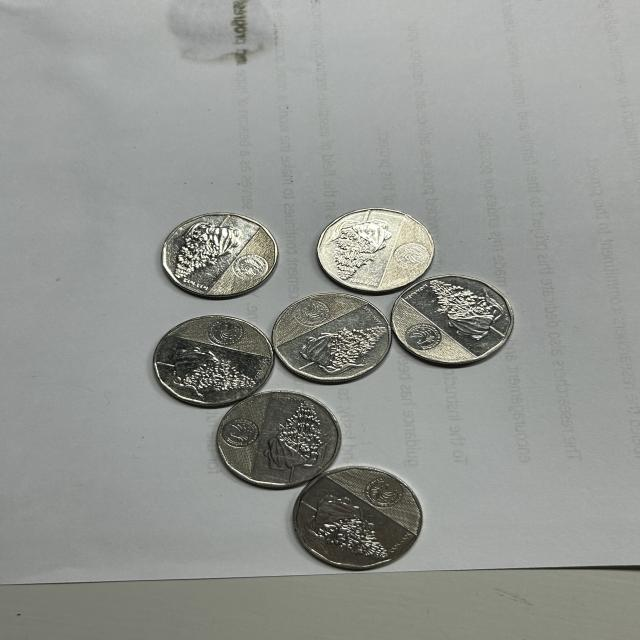10_New_Back: (418, 281, 505, 358), (304, 490, 384, 573), (158, 348, 241, 404), (308, 318, 402, 367), (279, 394, 324, 474), (335, 214, 380, 288), (178, 221, 227, 283)
